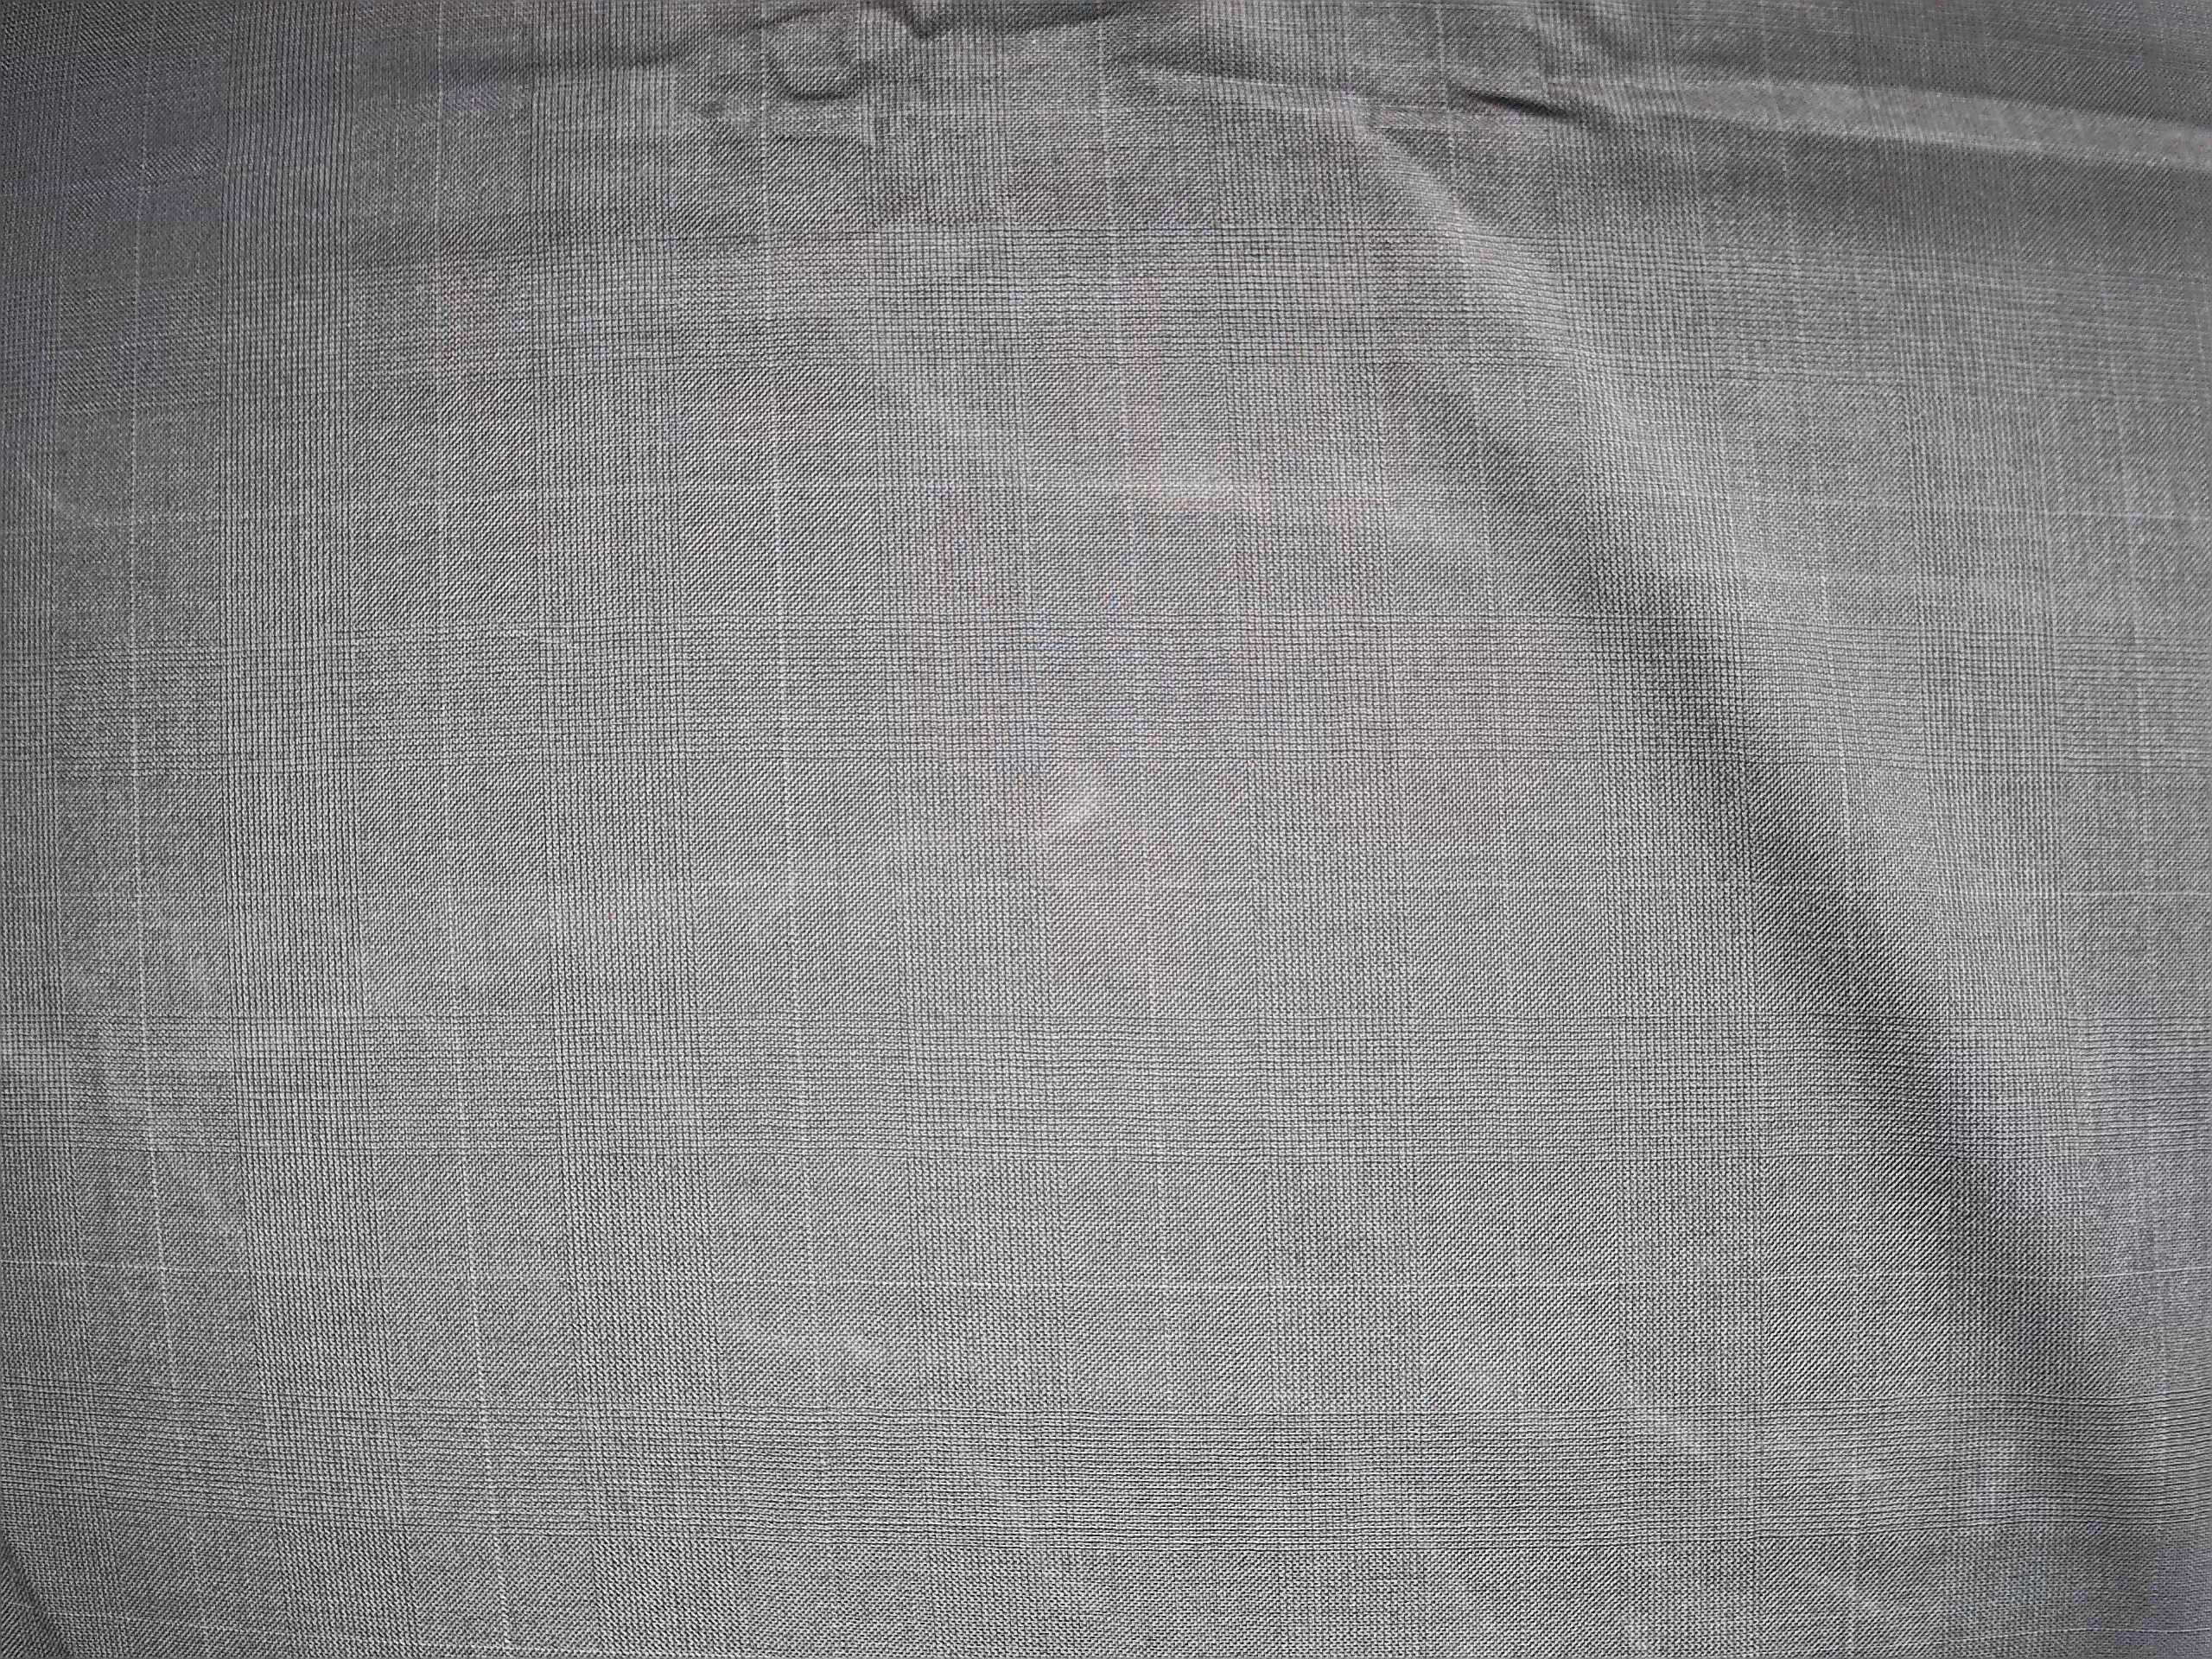stains: (1085, 426, 1514, 577), (202, 950, 449, 1081), (999, 734, 1130, 877)
